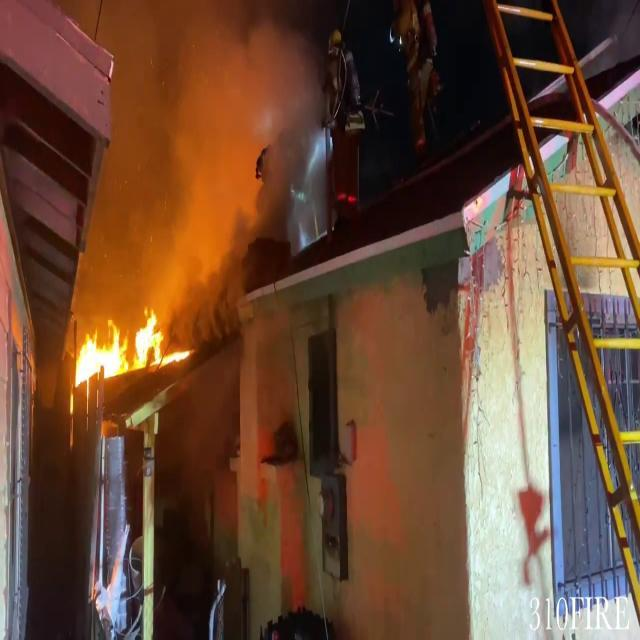Fire: (69, 304, 177, 388)
Smoke: (68, 0, 320, 310)
